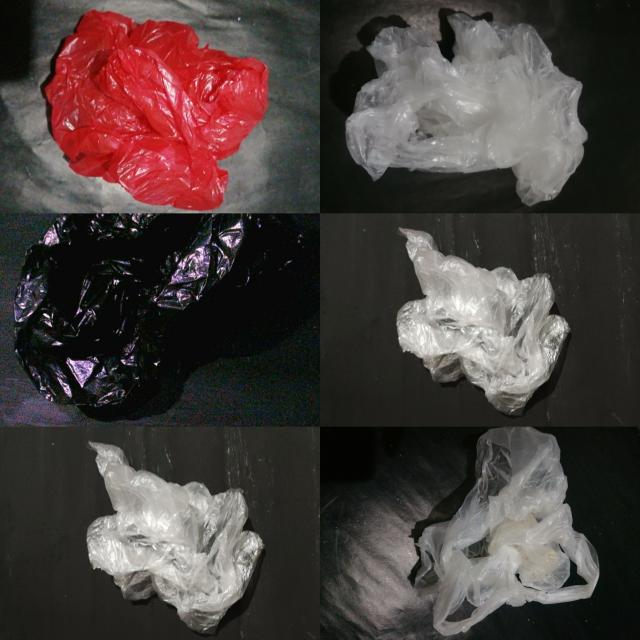Single-layer Plastic: (14, 214, 294, 408), (345, 14, 587, 204), (45, 10, 268, 210), (414, 428, 599, 634), (86, 442, 264, 633), (397, 229, 569, 415)
